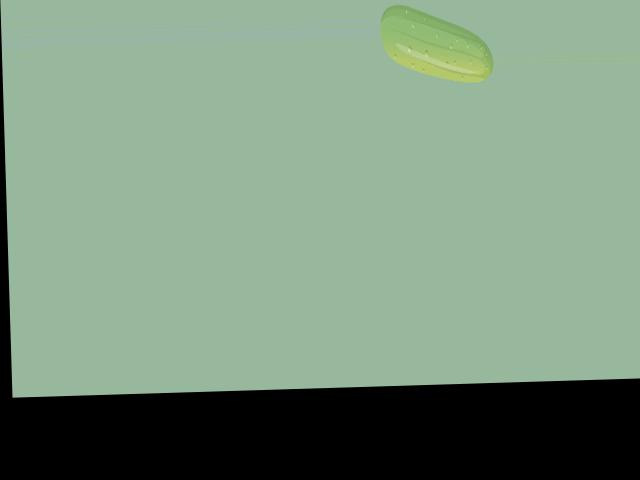cucumber: (379, 1, 493, 85)
